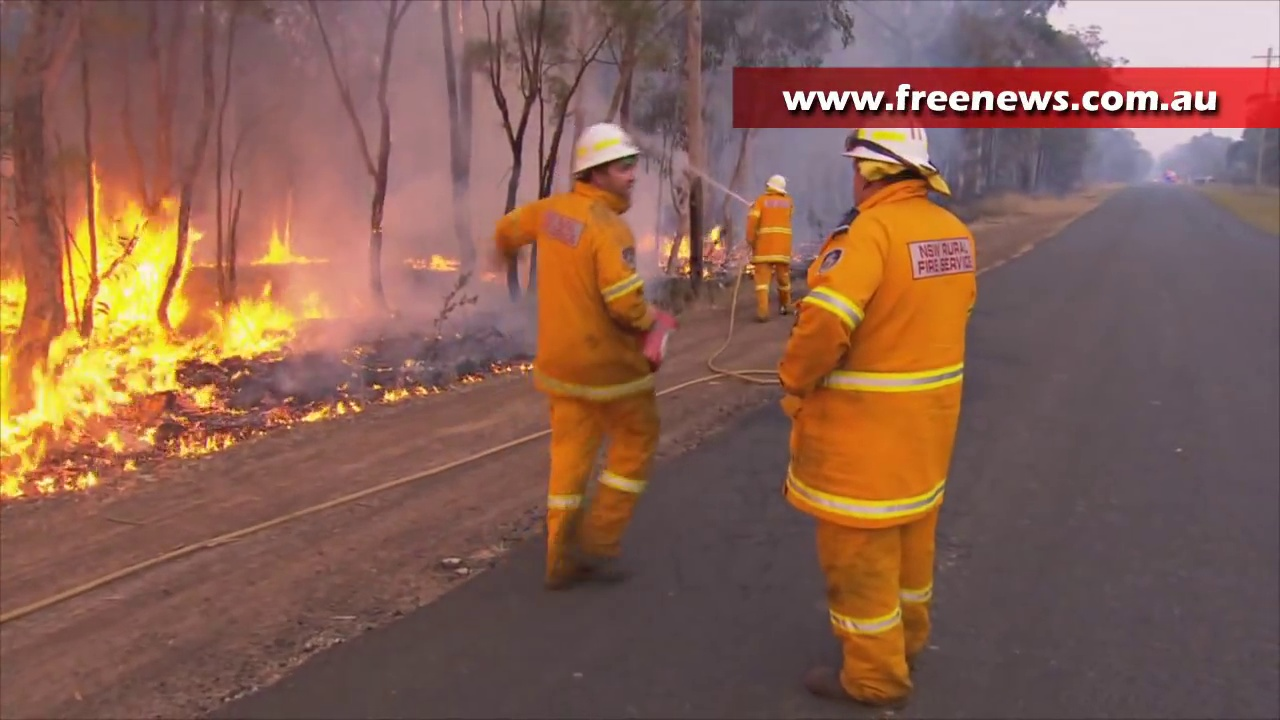fire: (2, 192, 200, 499), (195, 285, 289, 363), (262, 219, 296, 261)
